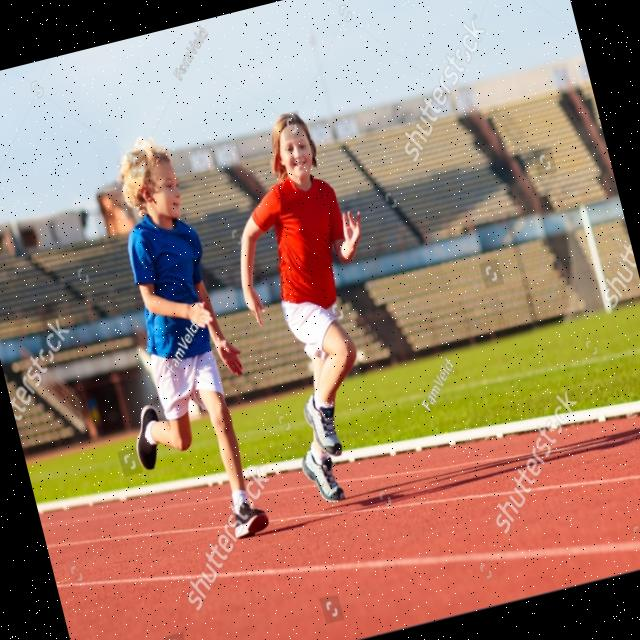Person: (64, 131, 284, 555), (204, 102, 426, 512)
